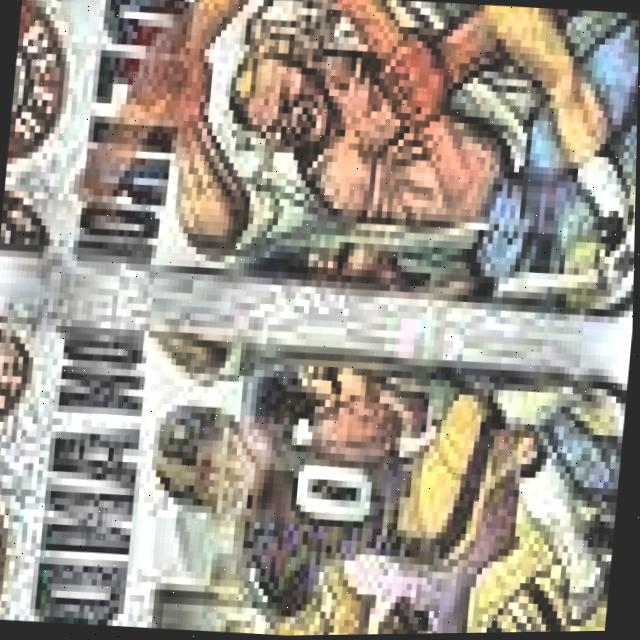metal: (0, 0, 640, 345), (0, 294, 633, 640)
